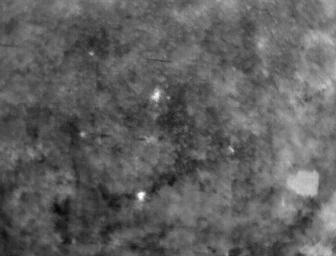landmine: (151, 90, 163, 104)
